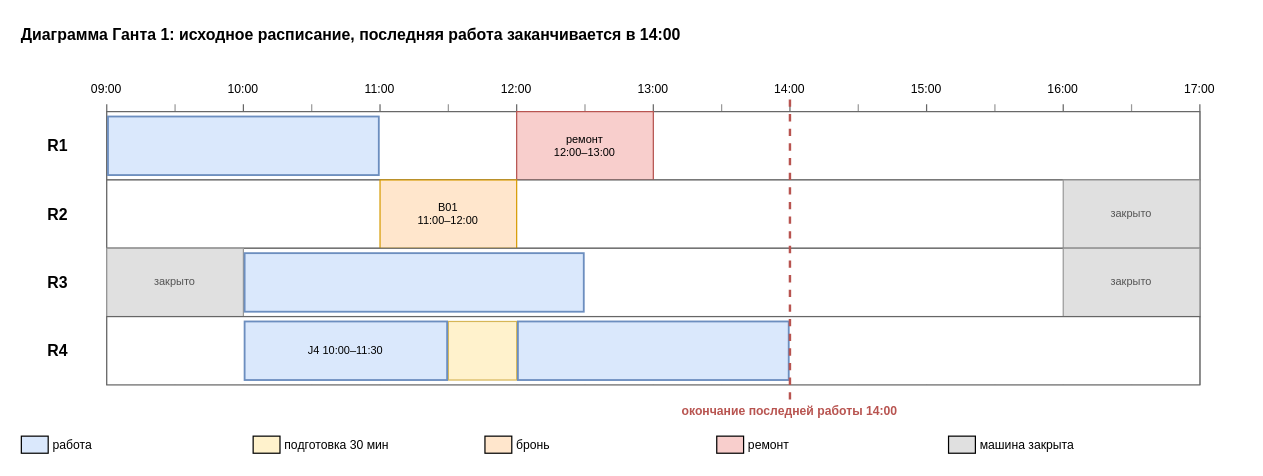
The diagram is 1263 pixels wide and 476 high, and some of its shapes have lost their labels. Each missing label, with the centre of its shape:
J1 09:00–11:00: the point at 243,145
J2 10:00–12:30: the point at 413,282
J3 12:00–14:00: the point at 652,350
подг.: the point at 482,350
